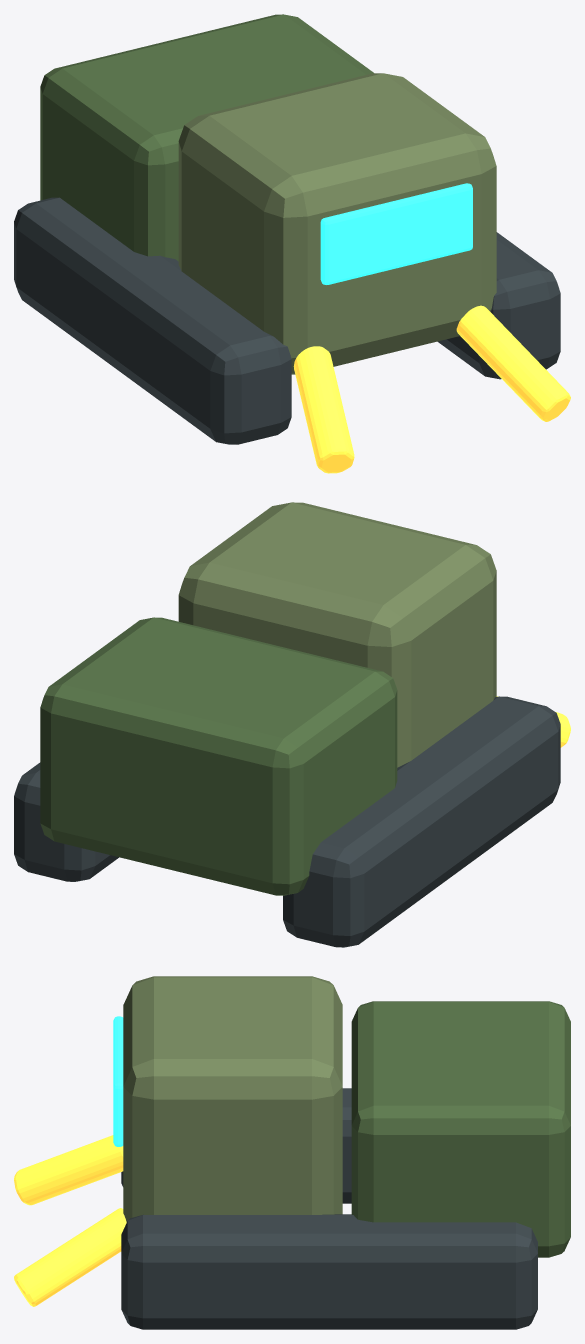
File: human_harvester.glb
The picture shows the model from 3 angles, top to bottom: view 1: azimuth 30°, elevation 25°; view 2: azimuth 150°, elevation 25°; view 3: azimuth 270°, elevation 25°; orthographic projection. The views are drawn at different scales.
Visible parts, largest first — view 1: Cab, CargoBed, LeftTrack, Windshield, RightTrack, Collector.001, Collector; view 2: CargoBed, Cab, LeftTrack, RightTrack; view 3: Cab, CargoBed, RightTrack, Collector.001, Collector, Windshield, LeftTrack.
Boxes of the visible parts, box(x1,y1,x2,y2) form: Cab: box(178, 73, 496, 374); CargoBed: box(40, 14, 373, 261); LeftTrack: box(14, 197, 291, 444); Windshield: box(320, 183, 472, 284); RightTrack: box(437, 232, 560, 379); Collector.001: box(456, 305, 570, 421); Collector: box(293, 346, 354, 473); CargoBed: box(40, 617, 397, 895); Cab: box(178, 502, 496, 767); LeftTrack: box(283, 696, 560, 947); RightTrack: box(14, 762, 118, 881); Cab: box(123, 976, 342, 1222); CargoBed: box(351, 1001, 570, 1257); RightTrack: box(121, 1214, 537, 1329); Collector.001: box(14, 1208, 126, 1306); Collector: box(14, 1135, 123, 1205); Windshield: box(113, 1016, 123, 1146); LeftTrack: box(121, 1088, 351, 1203).
Bounding box in the file's own units: 0.88 × 0.6 × 1.27.
